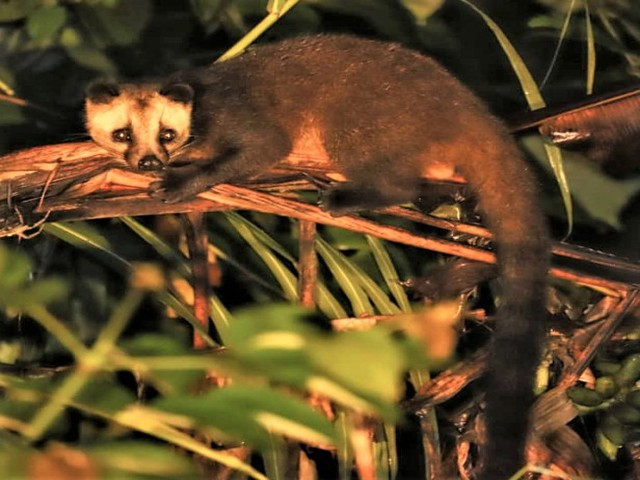civet: (78, 31, 561, 295)
